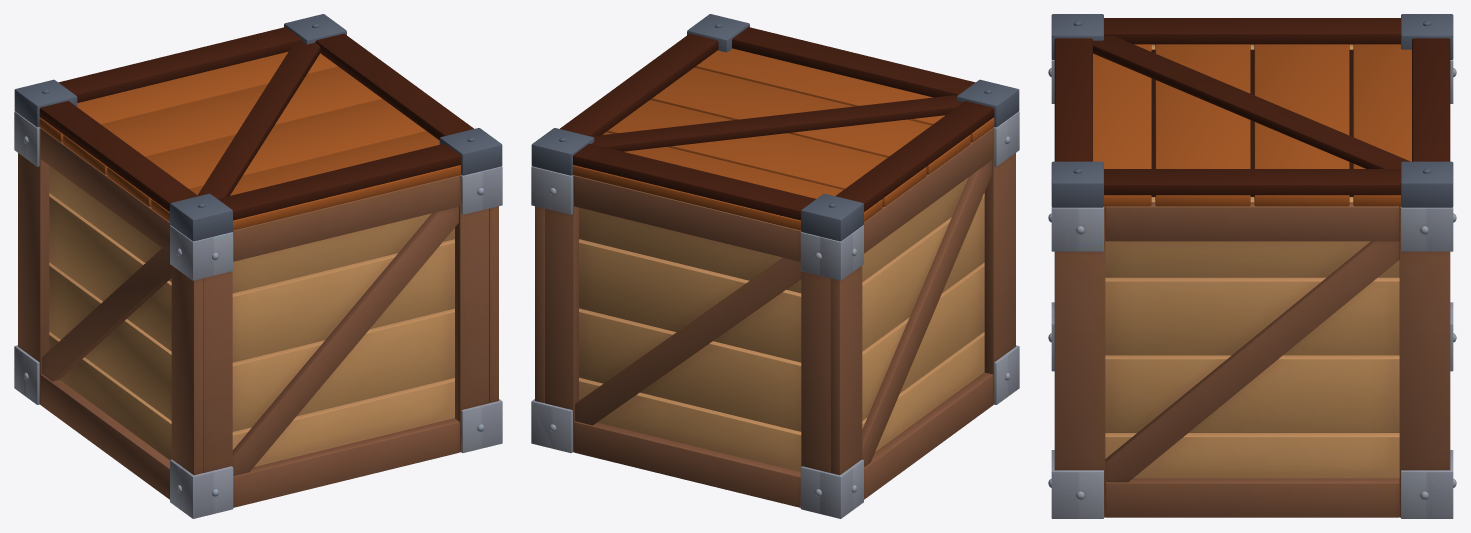
Rendered from wooden-crate.obj.
The picture shows the model from 3 angles, left to right: view 1: azimuth 30°, elevation 25°; view 2: azimuth 150°, elevation 25°; view 3: azimuth 270°, elevation 25°; orthographic projection. The views are drawn at different scales.
Visible parts, largest first — view 1: wooden-crate_body, wooden-crate_lid; view 2: wooden-crate_body, wooden-crate_lid; view 3: wooden-crate_body, wooden-crate_lid.
Boxes of the visible parts, box(x1,y1,x2,y2) form: wooden-crate_body: box(14, 111, 502, 518); wooden-crate_lid: box(14, 14, 502, 241); wooden-crate_body: box(531, 111, 1019, 518); wooden-crate_lid: box(531, 14, 1019, 241); wooden-crate_body: box(1048, 44, 1456, 518); wooden-crate_lid: box(1051, 14, 1453, 207).
Bounding box in the file's own units: 0.66 × 0.6053 × 0.6605.
Materials: 5 (1 with a texture image).
